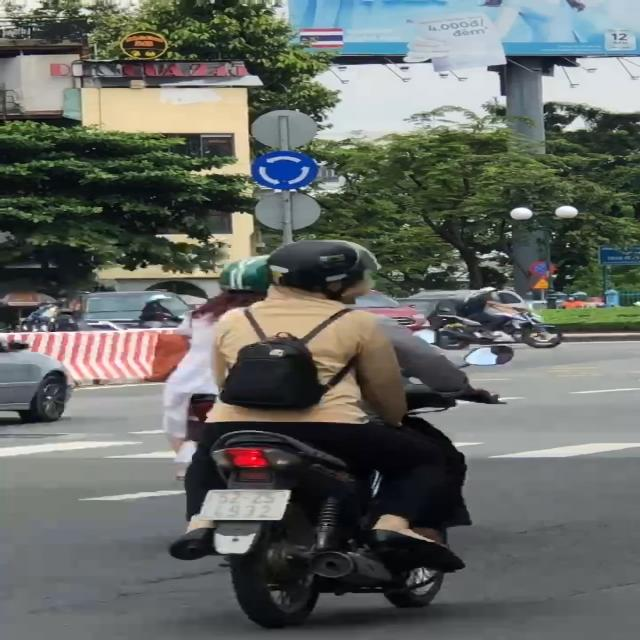Bien bao noi giao nhau chay theo vong xuyen: (248, 148, 322, 193)
